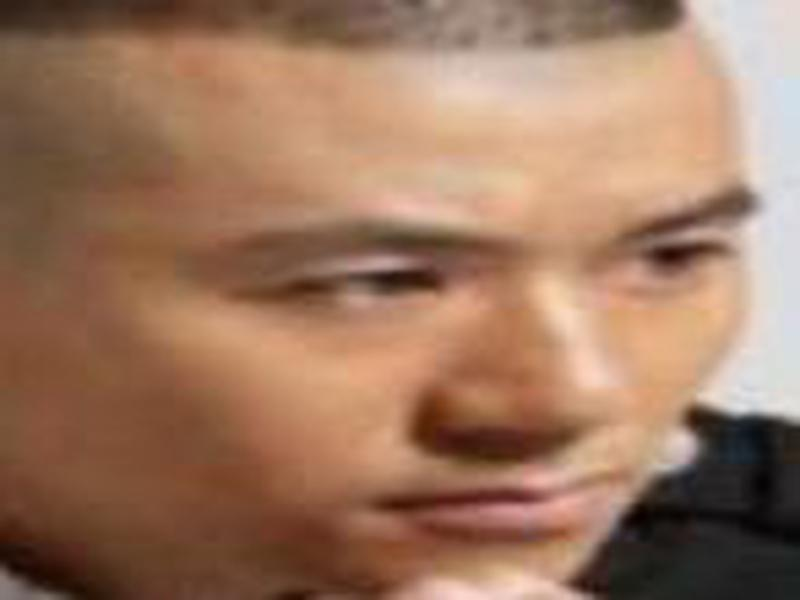without_mask: (6, 2, 749, 597)
